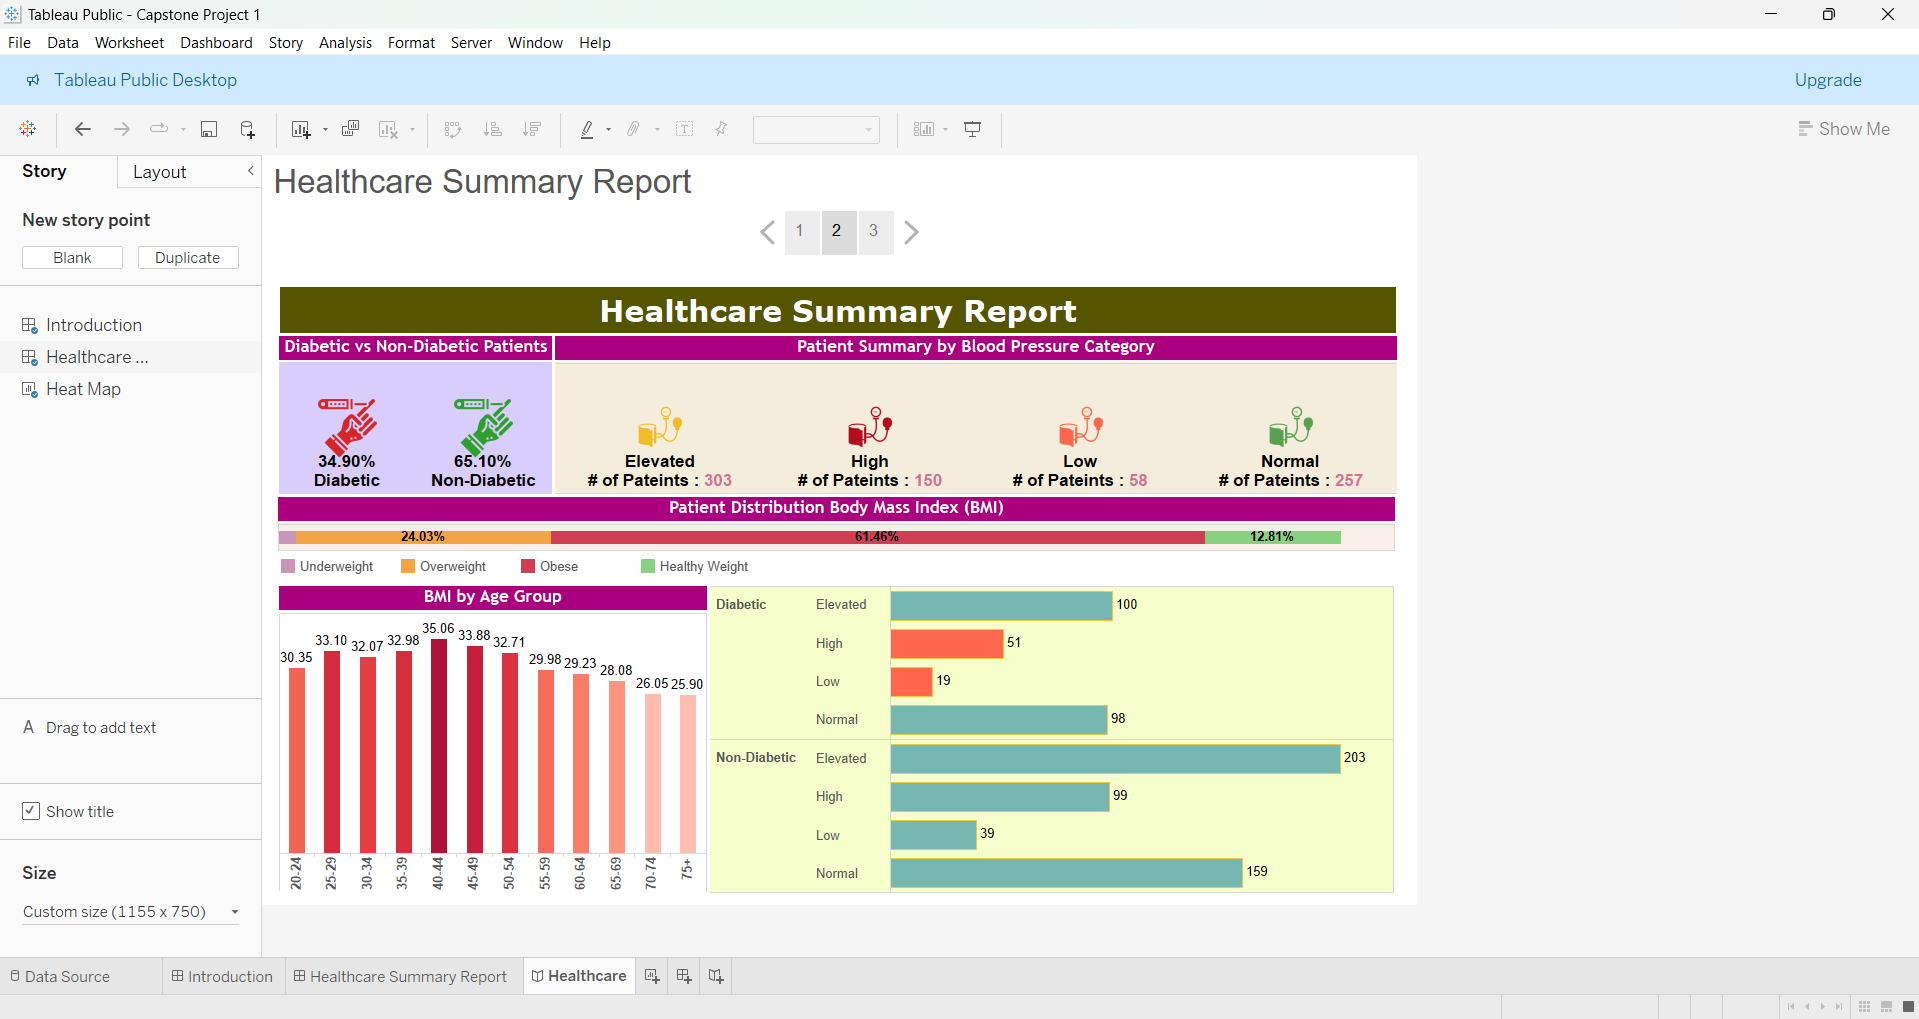

The dashboard page shown, as its layout file describes it:
{"tool":"tableau","page":{"name":"Healthcare Summary Report","canvas":[1000,1000],"units":"permille","ordinal":0},"visuals":[{"type":"text","box":[5.1,12.5,987.2,87.4]},{"type":"worksheet","title":"Diabetic/Non-Diabetic","mark":"Shape","cols":["Calculation_196188078754471936"],"box":[7.6,98.6,240.3,254.7]},{"type":"worksheet","title":"BP","mark":"Shape","cols":["Blood Pressure Systolic"],"box":[250.3,98.6,738.9,253.4]},{"type":"worksheet","title":"BMI Distribution by Count","mark":"Automatic","cols":["ID"],"box":[7,357.1,981,86.1]},{"type":"legend","title":"BMI Distribution by Count","param":"[federated.15x5tf11w3dua71bddl1s1m816na].[none:Calculation_196188078926819330:nk","box":[7,451.9,980.4,41.2]},{"type":"worksheet","title":"Quick Summary","mark":"Bar","rows":["Calculation_196188078754471936","Blood Pressure Systolic"],"cols":["ID"],"box":[386.2,499.4,600.5,494.4]},{"type":"worksheet","title":"BMI by Age Group","mark":"Automatic","rows":["BMI"],"cols":["Age (bin) 2"],"box":[7.5,500.6,375.9,491.9]}]}

Visuals, with their boxes on the dashboard's canvas, which has no fixed pixel size, in thousandths of its width and height (x1, y1, x2, y2). These are canvas units, not pixel positions in the 1919x1019 screenshot, which may show the page scaled, cropped or inside an application window:
text: left=5, top=12, right=992, bottom=100
"Diabetic/Non-Diabetic" worksheet (Shape marks): left=8, top=99, right=248, bottom=353
"BP" worksheet (Shape marks): left=250, top=99, right=989, bottom=352
"BMI Distribution by Count" worksheet: left=7, top=357, right=988, bottom=443
"BMI Distribution by Count" legend: left=7, top=452, right=987, bottom=493
"Quick Summary" worksheet (Bar marks): left=386, top=499, right=987, bottom=994
"BMI by Age Group" worksheet: left=8, top=501, right=383, bottom=992
